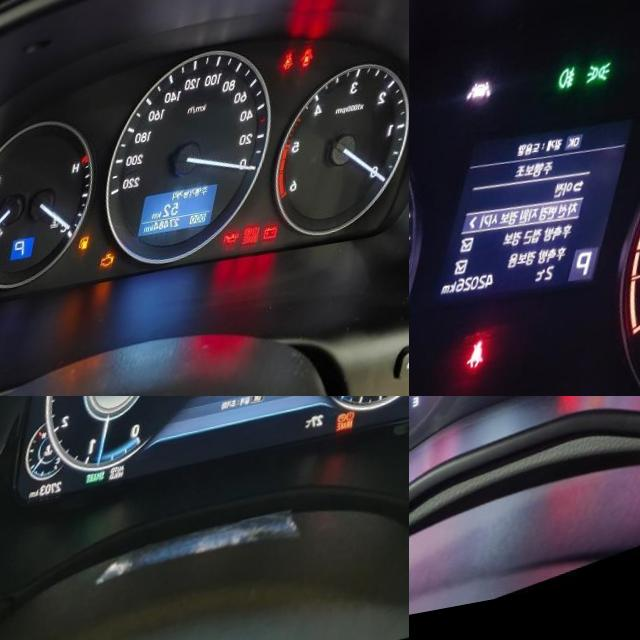FrontFogLight: (566, 75, 588, 102)
LaneCenteringOff: (475, 85, 503, 109)
SideLamp: (595, 70, 623, 98)
